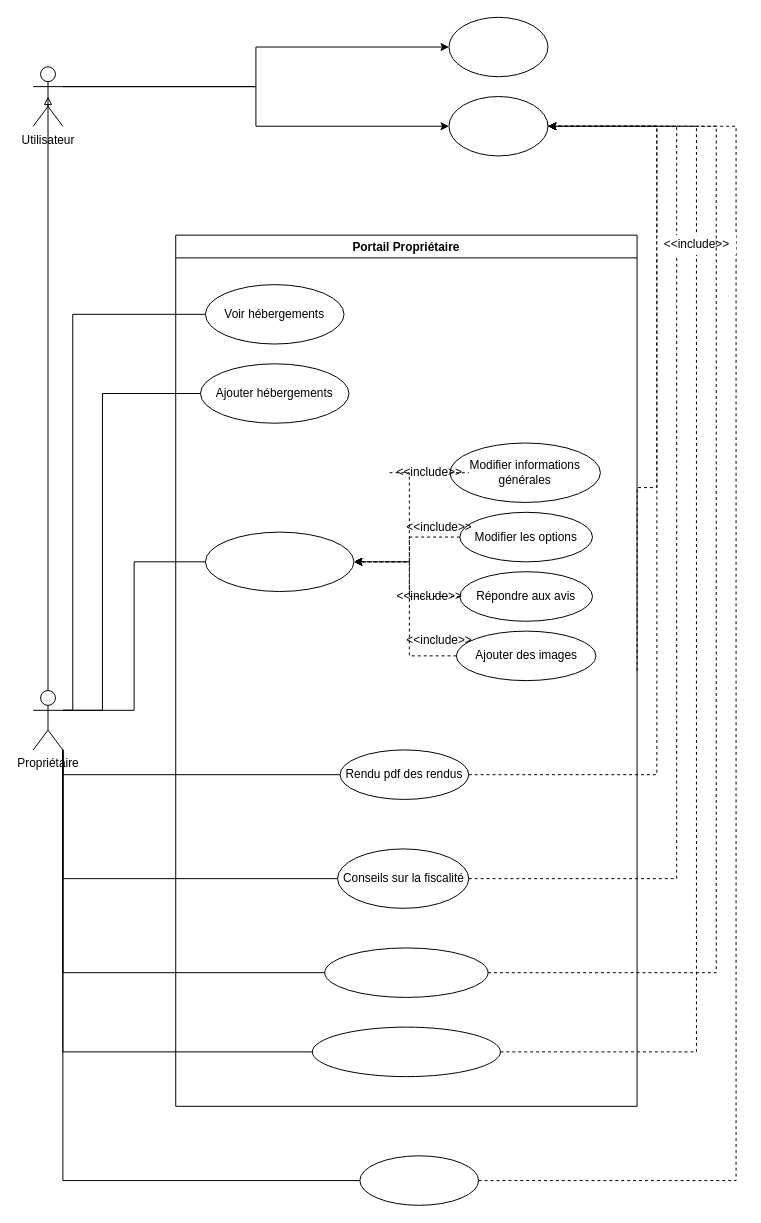
This 761x1223 diagram has some shape labels left out. The shapes that lost their labels are listed below. From the top down, each one's centre as x and y in pixels, then its label:
point 498,46: Inscription
point 498,126: Connexion
point 279,561: Modifier hébergements
point 406,972: Voir informations personnelles
point 405,1051: Modifier informations personnelles
point 419,1180: Déconnexion
